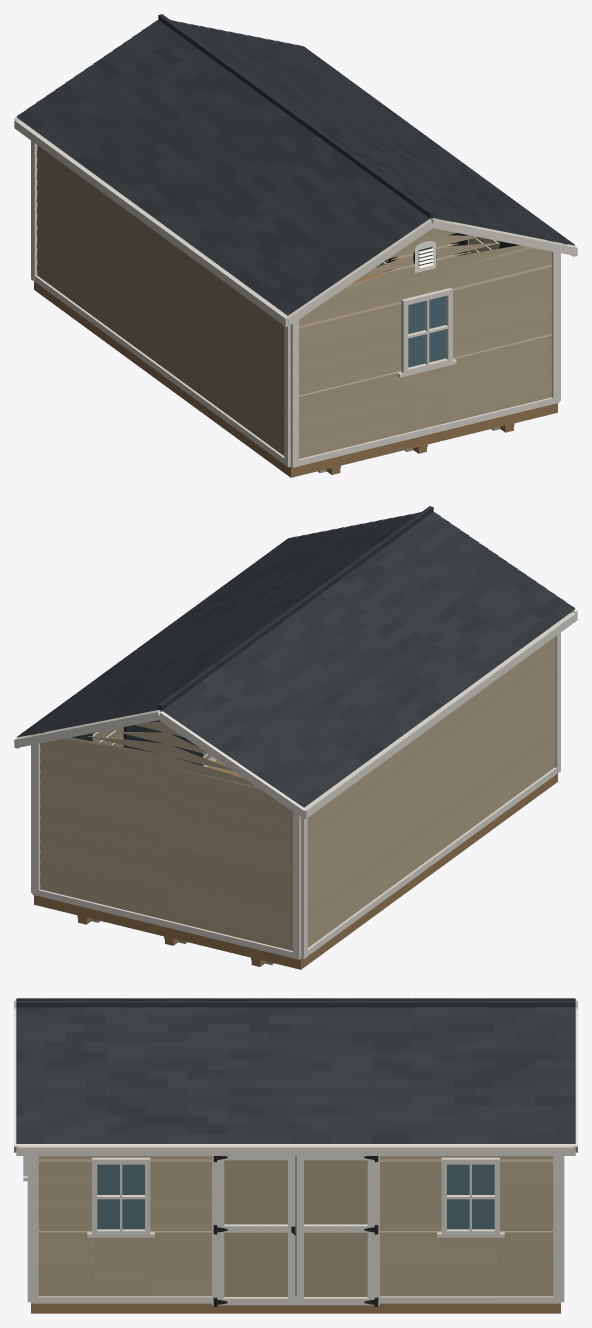
The model's file is 03-elite-utility.glb.
3 views of the same model, one above another, from view 1: azimuth 30°, elevation 25°; view 2: azimuth 150°, elevation 25°; view 3: azimuth 270°, elevation 25° (orthographic). The views are drawn at different scales.
Parts seen in each view (by area): view 1: Main roof, front wall, left wall, Floor platform and skids, front wall window, right wall, front wall vent; view 2: Main roof, rear wall, left wall, Floor platform and skids, right wall, right wall double; view 3: Main roof, right wall, right wall double, right wall window, Floor platform and skids, front wall, rear wall.
Part boxes in pixels (x1,y1,x2,y2): Main roof: (14, 14, 577, 326); front wall: (291, 218, 559, 467); left wall: (31, 140, 290, 467); Floor platform and skids: (34, 268, 557, 477); front wall window: (397, 288, 456, 377); right wall: (375, 235, 560, 400); front wall vent: (415, 241, 435, 272); Main roof: (14, 506, 577, 818); rear wall: (32, 710, 300, 959); left wall: (301, 632, 560, 959); Floor platform and skids: (34, 760, 557, 969); right wall: (31, 727, 216, 892); right wall double: (115, 720, 203, 765); Main roof: (14, 998, 577, 1155); right wall: (31, 1156, 560, 1303); right wall double: (212, 1156, 379, 1306); right wall window: (87, 1157, 504, 1237); Floor platform and skids: (31, 1303, 560, 1313); front wall: (27, 1156, 30, 1302); rear wall: (561, 1156, 564, 1302).
Bounding box in the file's own units: 4 × 3.23 × 6.49.
